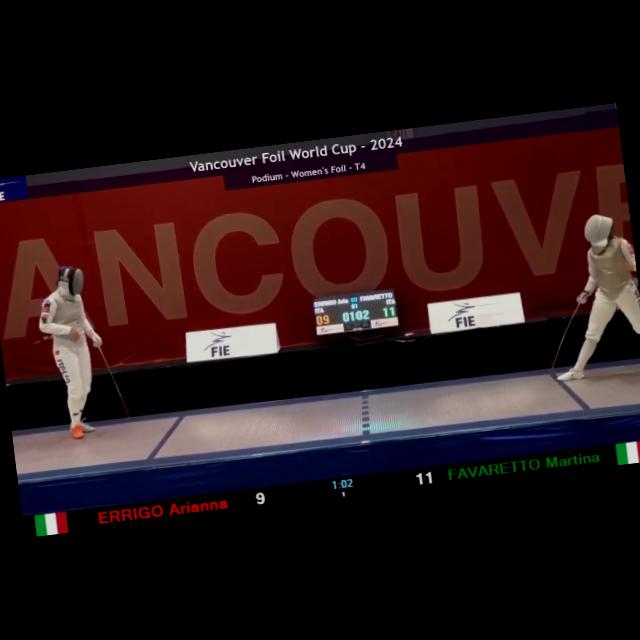blade: (541, 292, 596, 374), (91, 331, 134, 424)
